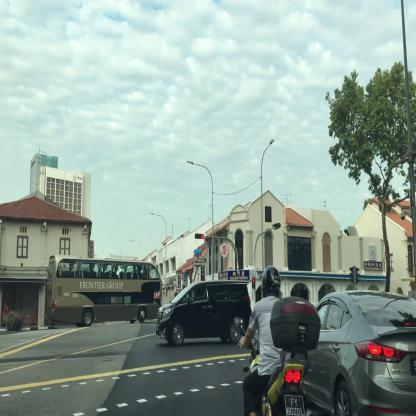red_traffic_light: (196, 233, 204, 238)
